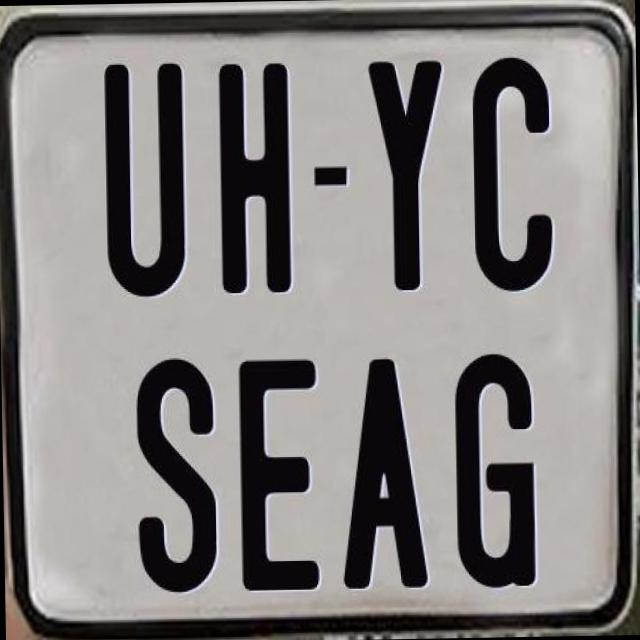A: (339, 354, 435, 588)
C: (470, 56, 556, 300)
E: (235, 358, 318, 594)
G: (452, 353, 536, 588)
H: (216, 62, 292, 294)
S: (135, 354, 223, 595)
U: (100, 62, 186, 304)
Y: (365, 61, 449, 296)
